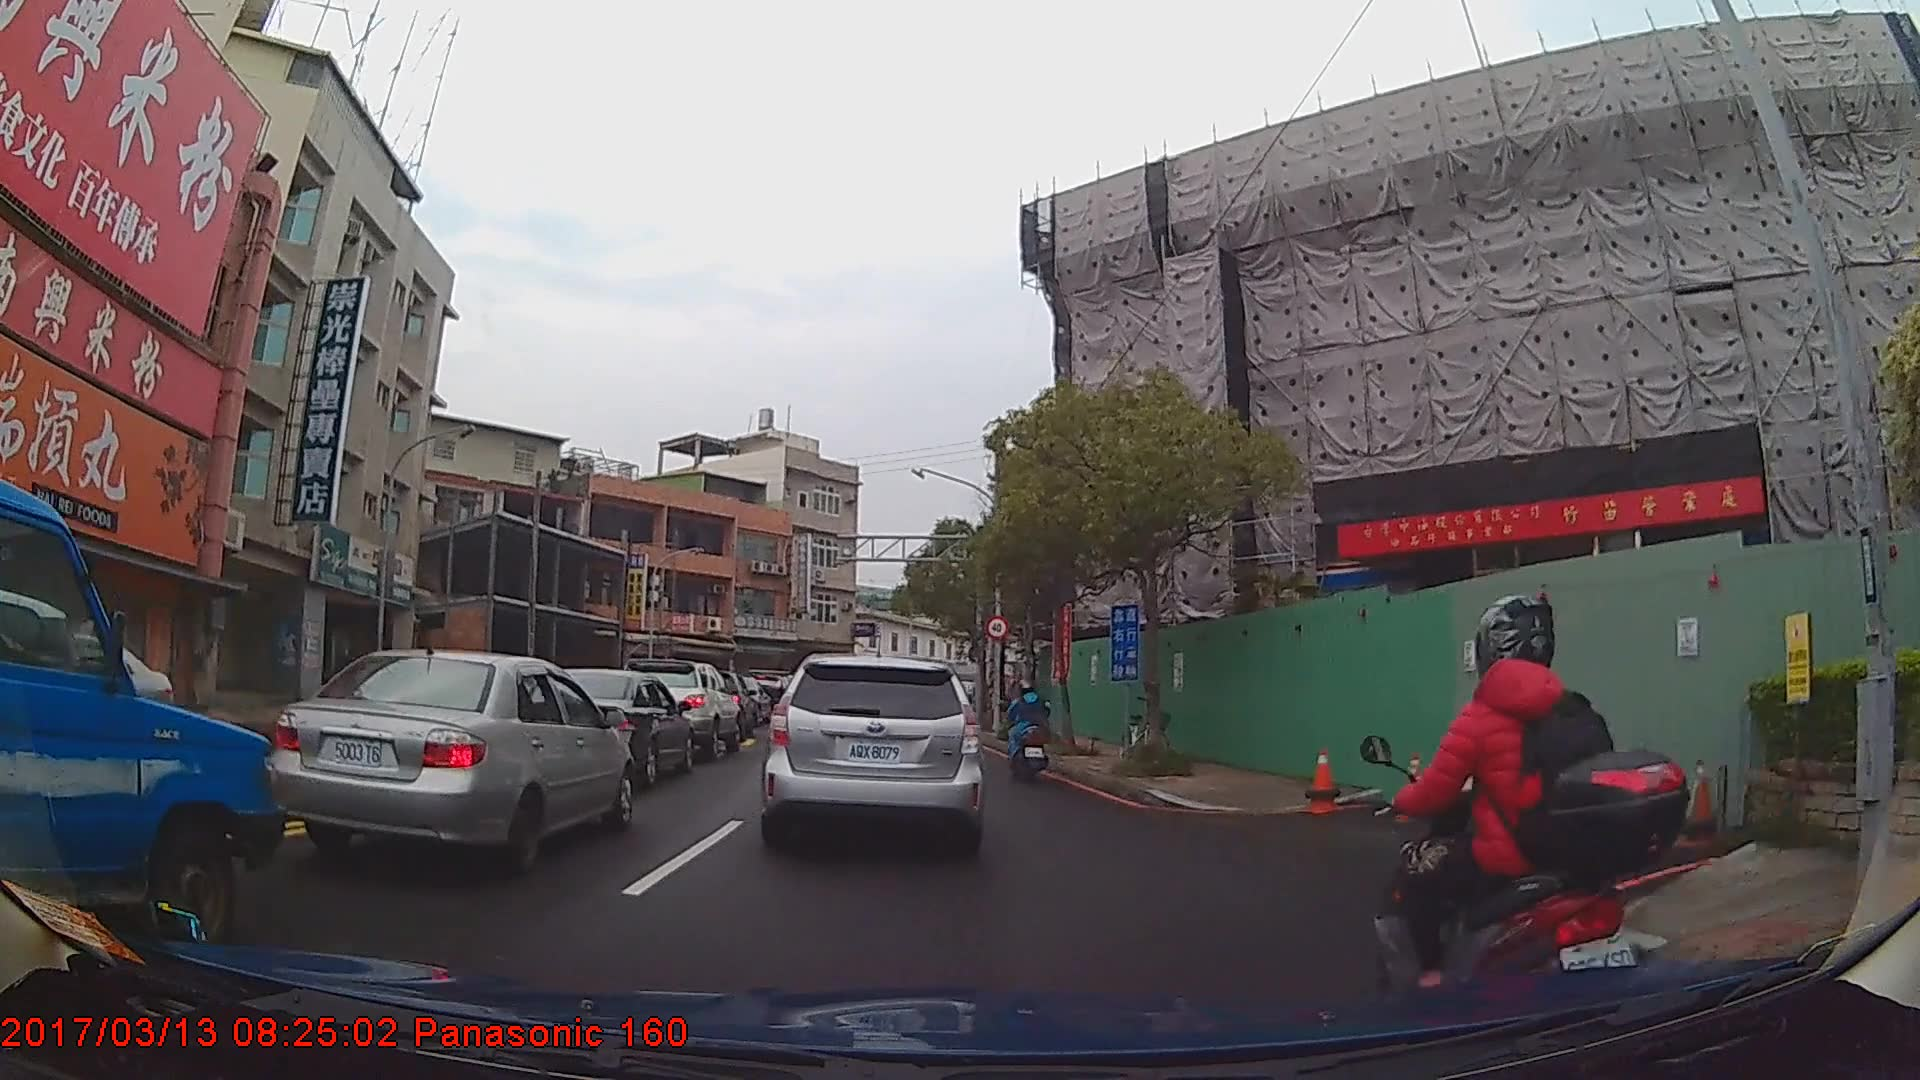rider: (1364, 587, 1694, 1057), (1002, 681, 1053, 784)
vehicle: (0, 476, 280, 966), (265, 648, 633, 877), (763, 652, 983, 852), (536, 667, 695, 787), (616, 656, 741, 762)
